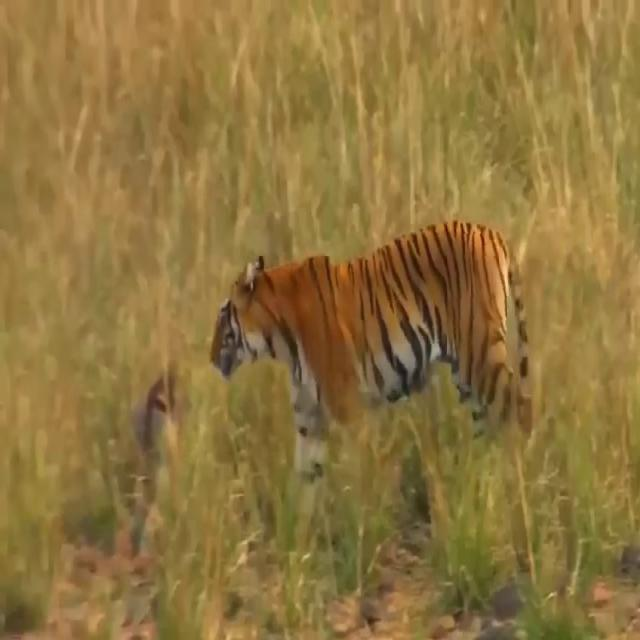tiger: (209, 221, 532, 575)
